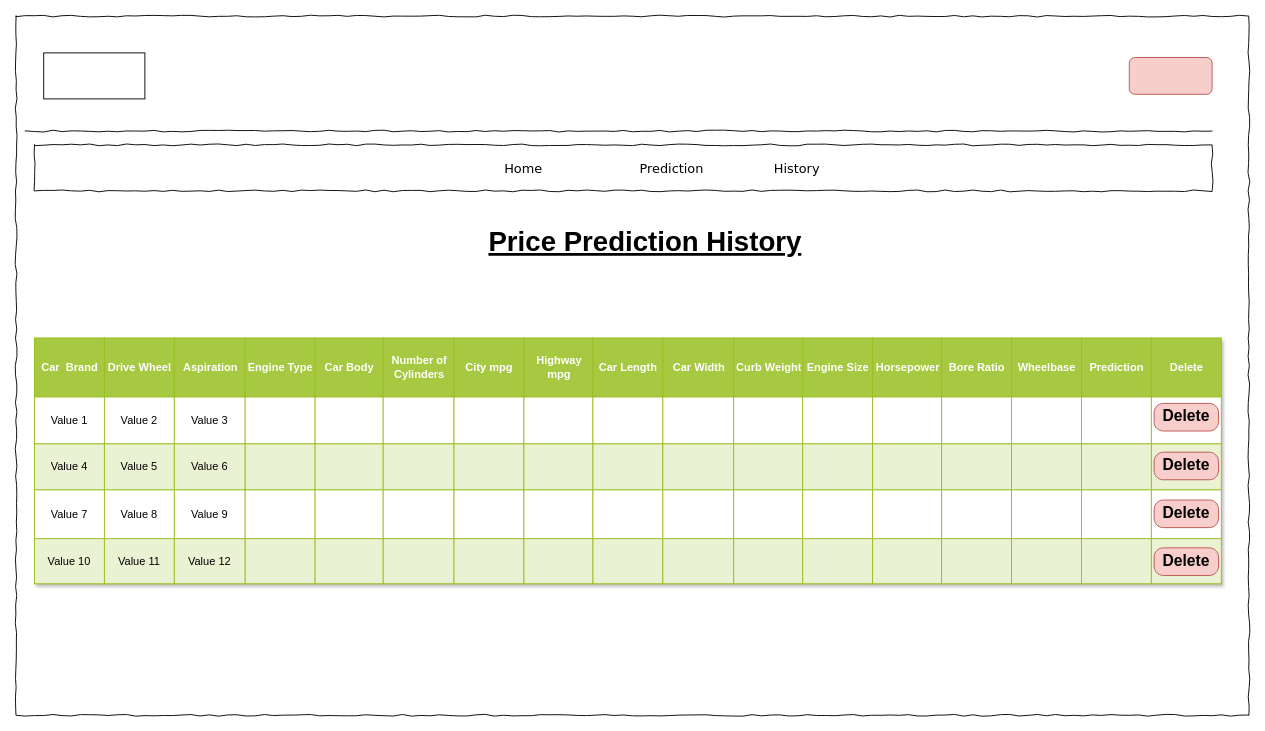
The diagram is 1265 pixels wide and 731 high, and some of its shapes have lost their labels. The centre of each missing label's shape, as x and y in pixels:
LOGO: point (94, 75)
Logout: point (1170, 75)
